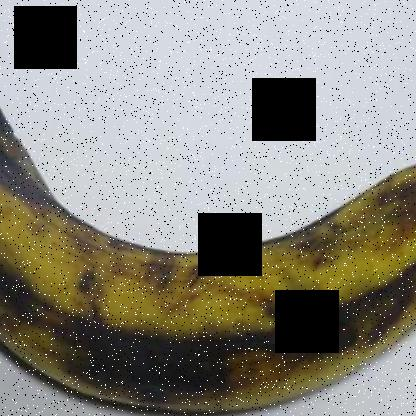overripe: (1, 94, 415, 415)
